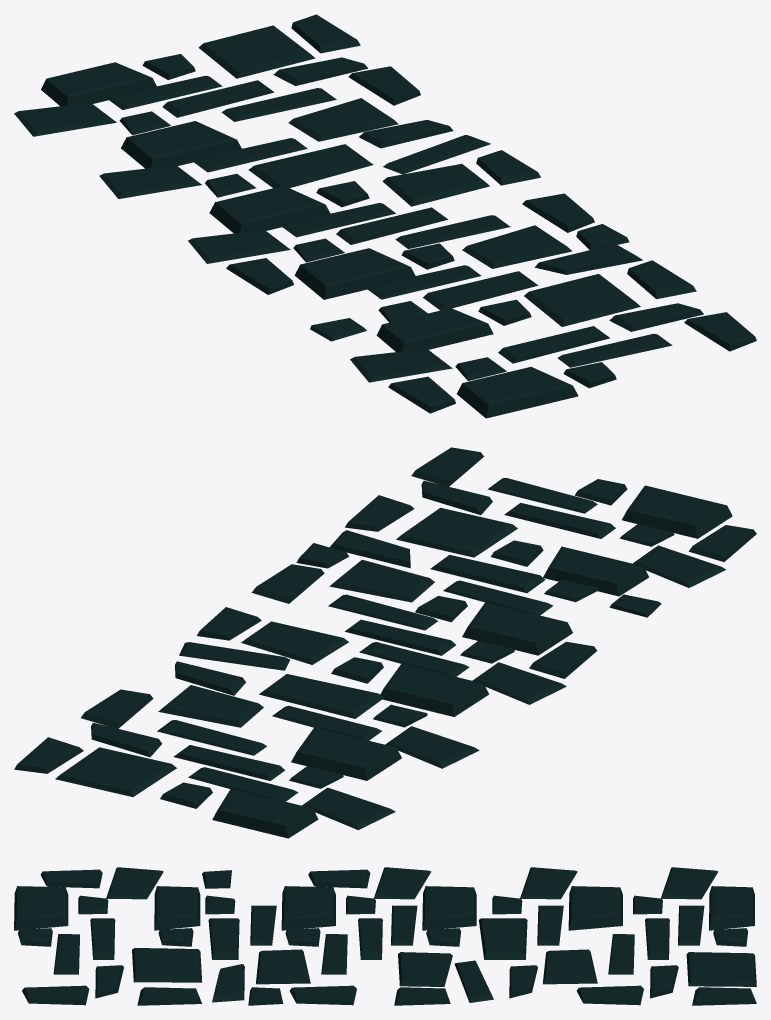
The model's file is tiles001_stone_0_lev1.glb.
3 views of the same model, one above another, from view 1: azimuth 30°, elevation 25°; view 2: azimuth 150°, elevation 25°; view 3: azimuth 270°, elevation 25° (orthographic). The views are drawn at different scales.
Visible parts, largest first — view 1: tiles001_stone_0_lev1; view 2: tiles001_stone_0_lev1; view 3: tiles001_stone_0_lev1.
Part boxes in pixels (x1,y1,x2,y2): tiles001_stone_0_lev1: [14, 14, 756, 418]; tiles001_stone_0_lev1: [14, 447, 756, 838]; tiles001_stone_0_lev1: [14, 867, 756, 1005].
Size of the model in its own units: 1.54 by 0.0517 by 3.53.
